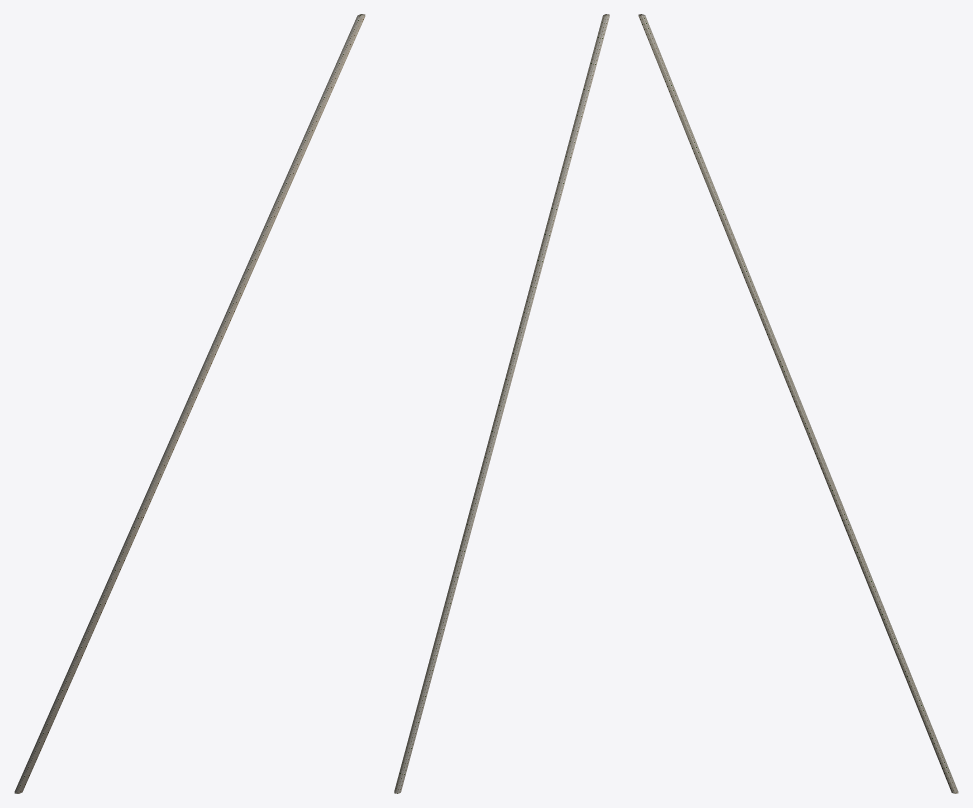
File: sphere.012_lev2.glb
3 views of the same model, side by side, from view 1: azimuth 90°, elevation 25°; view 2: azimuth 150°, elevation 25°; view 3: azimuth 270°, elevation 25° (orthographic). The views are drawn at different scales.
Visible parts, largest first — view 1: sphere.012_lev2; view 2: sphere.012_lev2; view 3: sphere.012_lev2.
Boxes of the visible parts, bbox=[...] form: sphere.012_lev2: bbox=[14, 14, 365, 793]; sphere.012_lev2: bbox=[394, 14, 609, 793]; sphere.012_lev2: bbox=[638, 14, 958, 793].
Size of the model in its own units: 0.1428 by 1.33 by 0.5182.
1 material, 1 textured.
